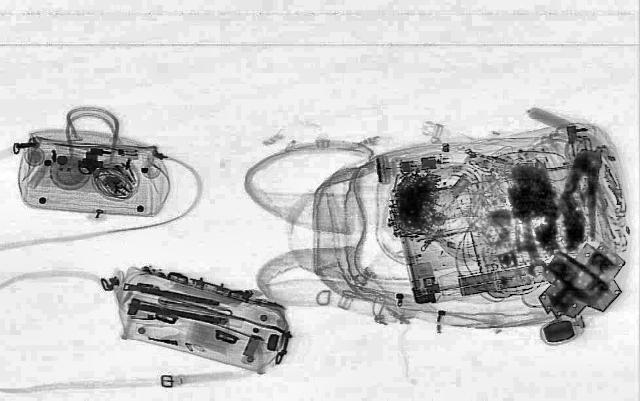Pliers: (548, 148, 612, 240)
Wrench: (511, 218, 555, 278)
